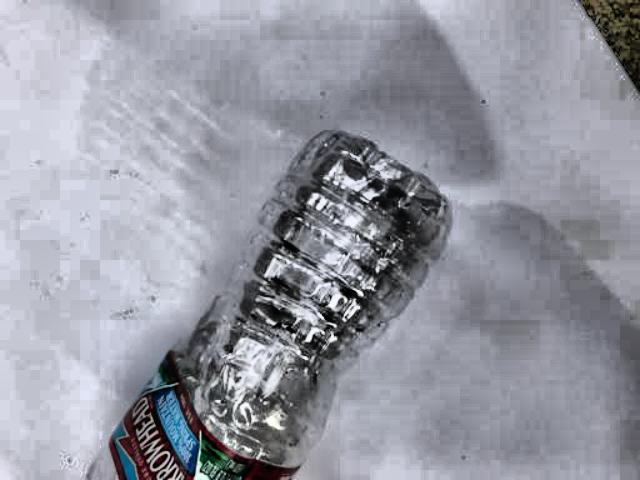Bottles: (65, 124, 456, 480)
